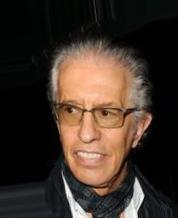face: (63, 99, 115, 167)
